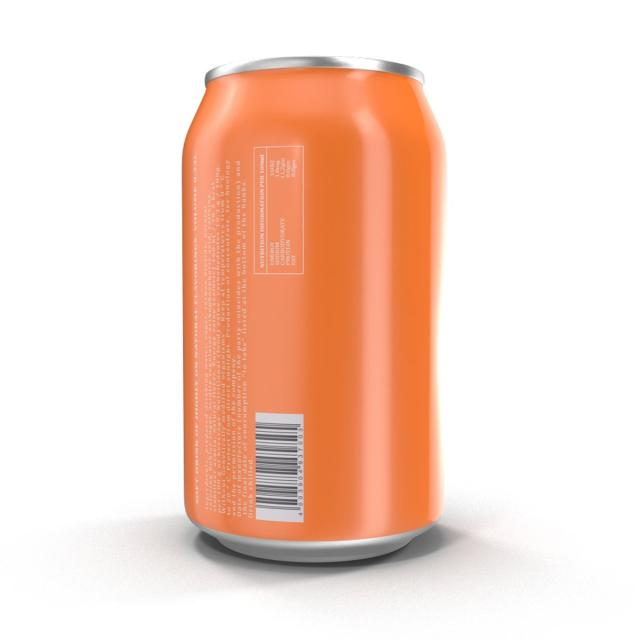fanta: (183, 63, 453, 553)
